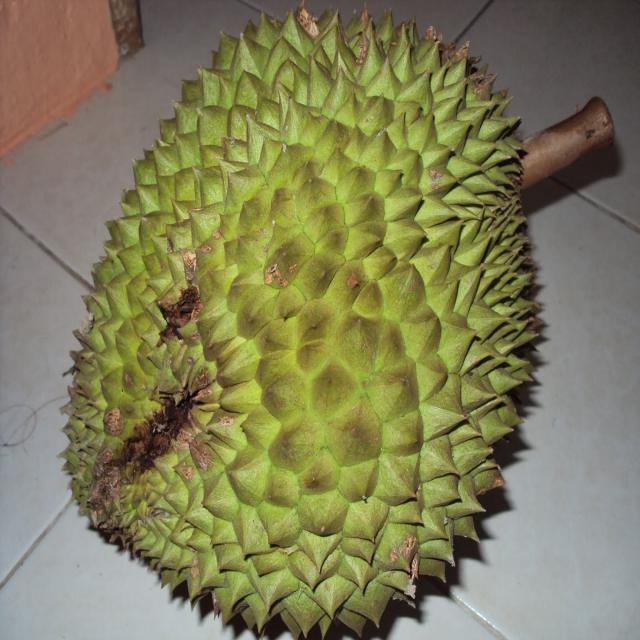defective: (59, 10, 548, 632)
